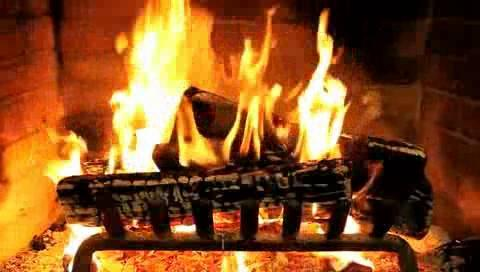fire: (8, 0, 476, 170)
